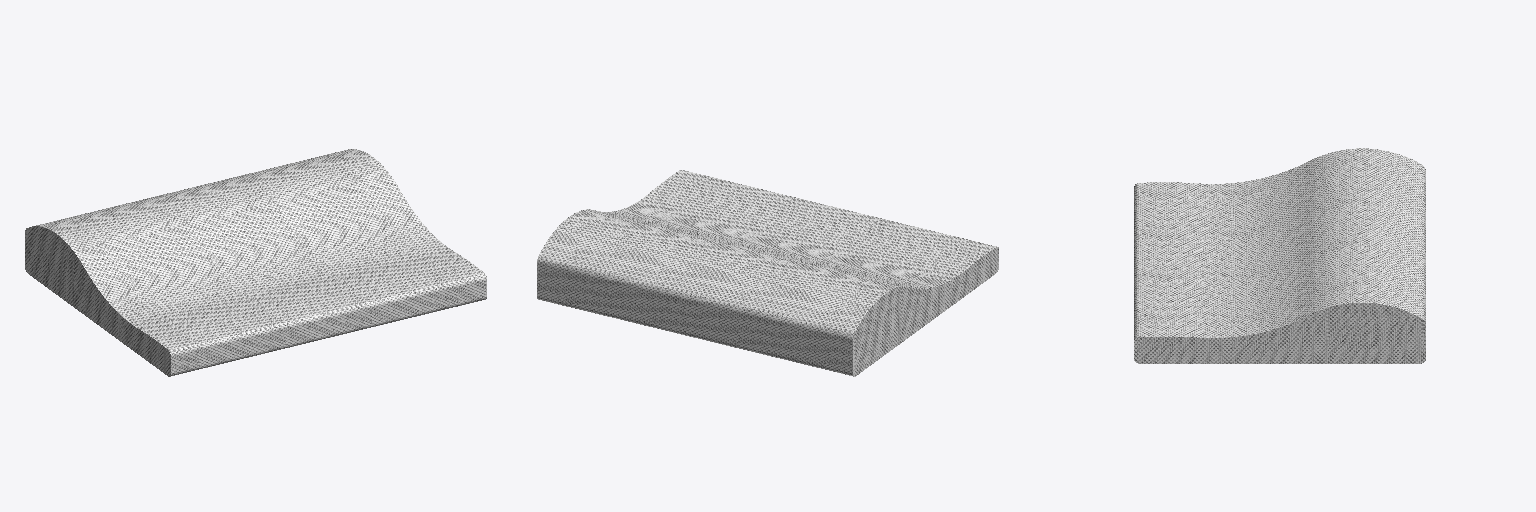
3 views of the same model, side by side, from view 1: azimuth 30°, elevation 25°; view 2: azimuth 150°, elevation 25°; view 3: azimuth 270°, elevation 25° (orthographic).
Visible parts, largest first — view 1: black.002; view 2: black.002; view 3: black.002.
Boxes of the visible parts, x1,y1,x2,y2 form: black.002: [25, 149, 486, 376]; black.002: [537, 170, 998, 376]; black.002: [1134, 148, 1425, 363].
Size of the model in its own units: 5.71 by 1.05 by 4.57.
Materials: 1 (1 with a texture image).